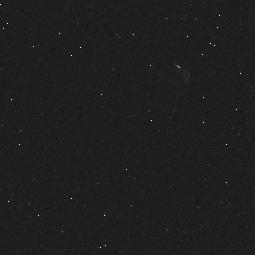soho: (126, 62, 197, 120)
